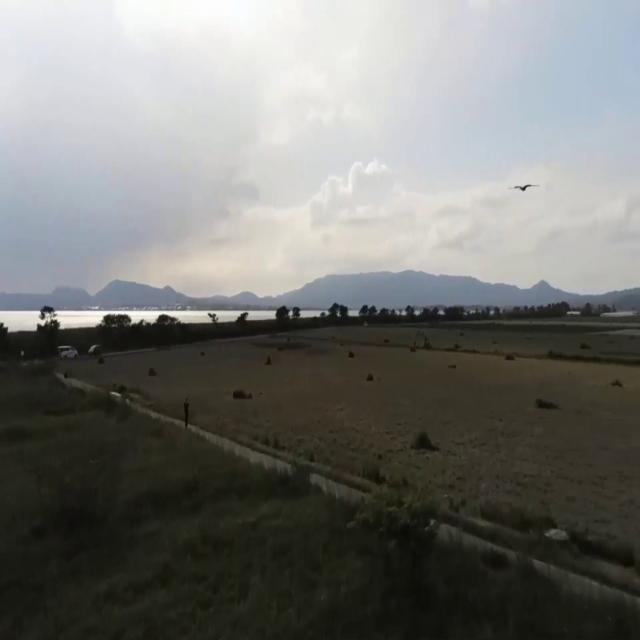bird: (513, 173, 537, 208)
